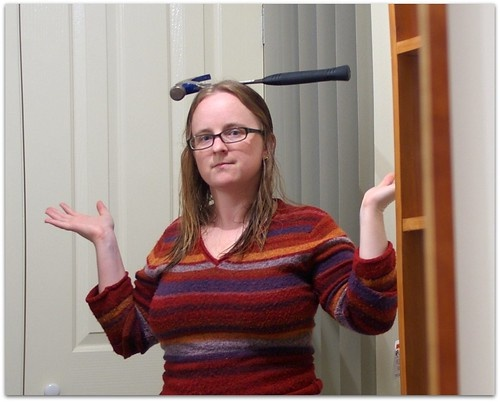hammer: (170, 66, 281, 100)
